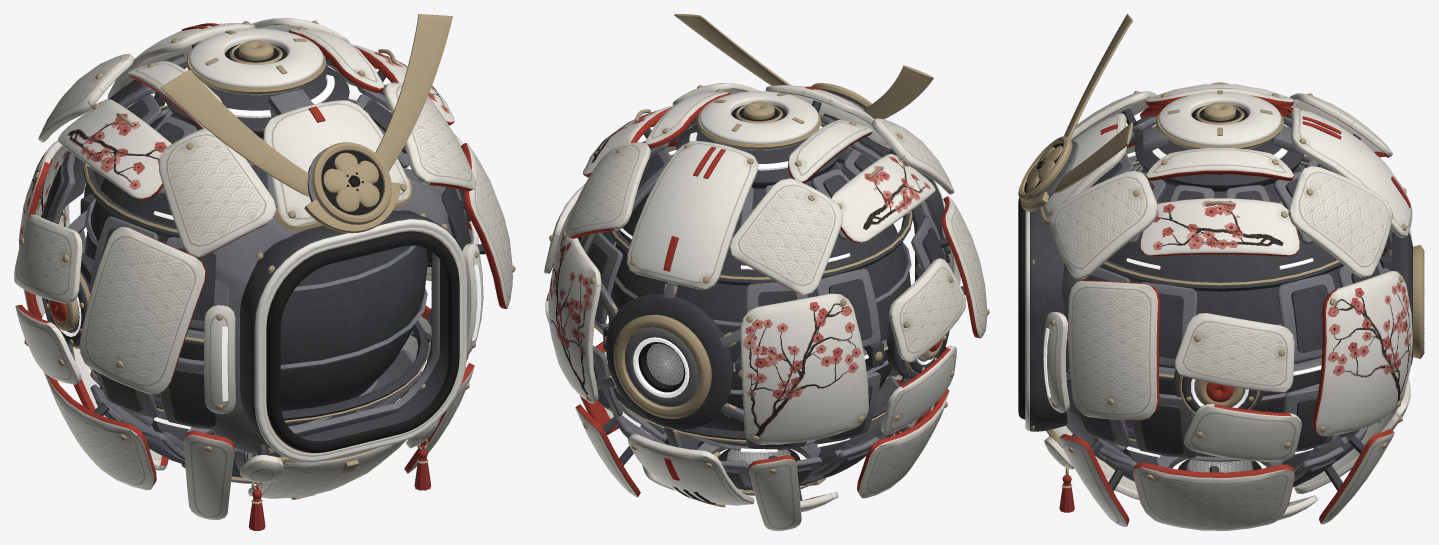
File: japanese-white-samurai-sakura.web.glb
The picture shows the model from 3 angles, left to right: view 1: azimuth 30°, elevation 25°; view 2: azimuth 150°, elevation 25°; view 3: azimuth 270°, elevation 25°; orthographic projection. The views are drawn at different scales.
Visible parts, largest first — view 1: japanese_white_samurai_sakura; view 2: japanese_white_samurai_sakura; view 3: japanese_white_samurai_sakura.
Boxes of the visible parts, bbox=[...] form: japanese_white_samurai_sakura: bbox=[14, 14, 515, 530]; japanese_white_samurai_sakura: bbox=[544, 14, 989, 530]; japanese_white_samurai_sakura: bbox=[1018, 14, 1424, 530].
Size of the model in its own units: 0.8389 by 0.8494 by 0.7475.
Materials: 8 (5 with a texture image).
